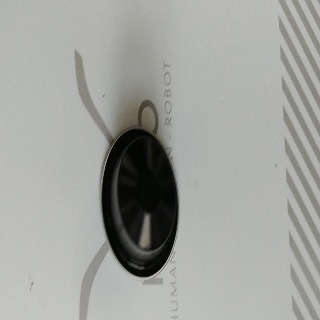capsule_10: (99, 125, 180, 281)
